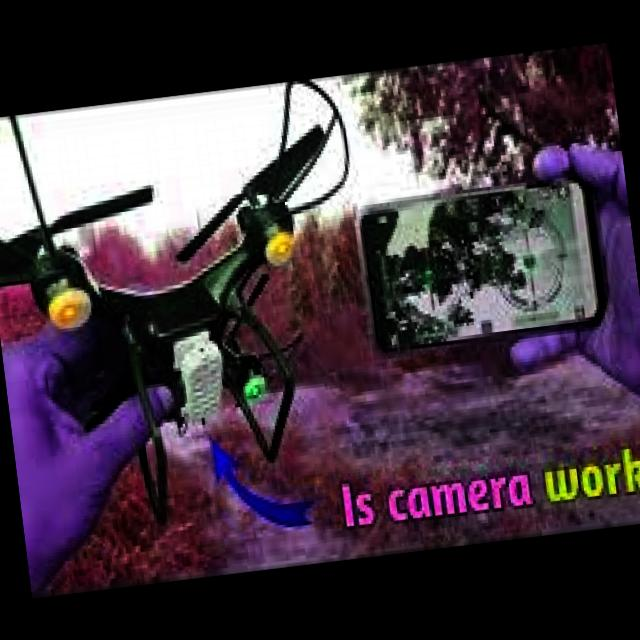drone: (0, 46, 384, 535)
